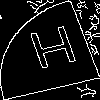H: (25, 25, 85, 79)
